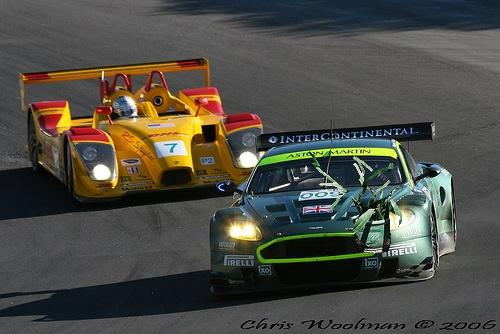tampered: (309, 152, 402, 253)
